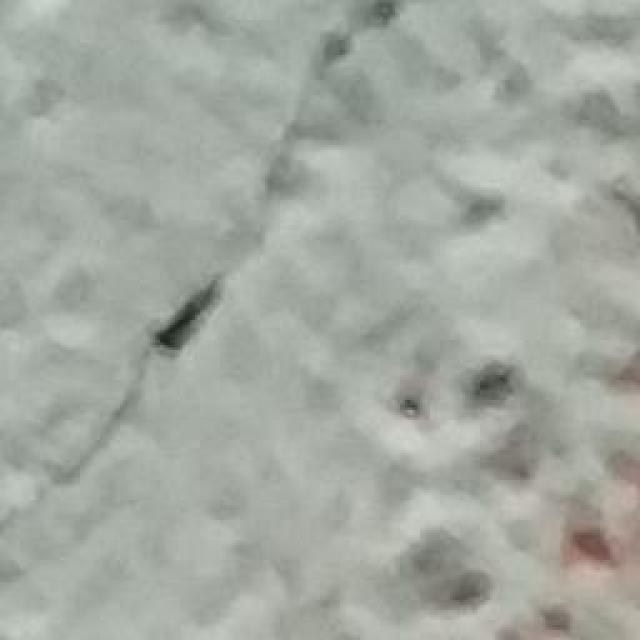Diagonal: (61, 0, 401, 519)
Rippled: (411, 2, 640, 640)
